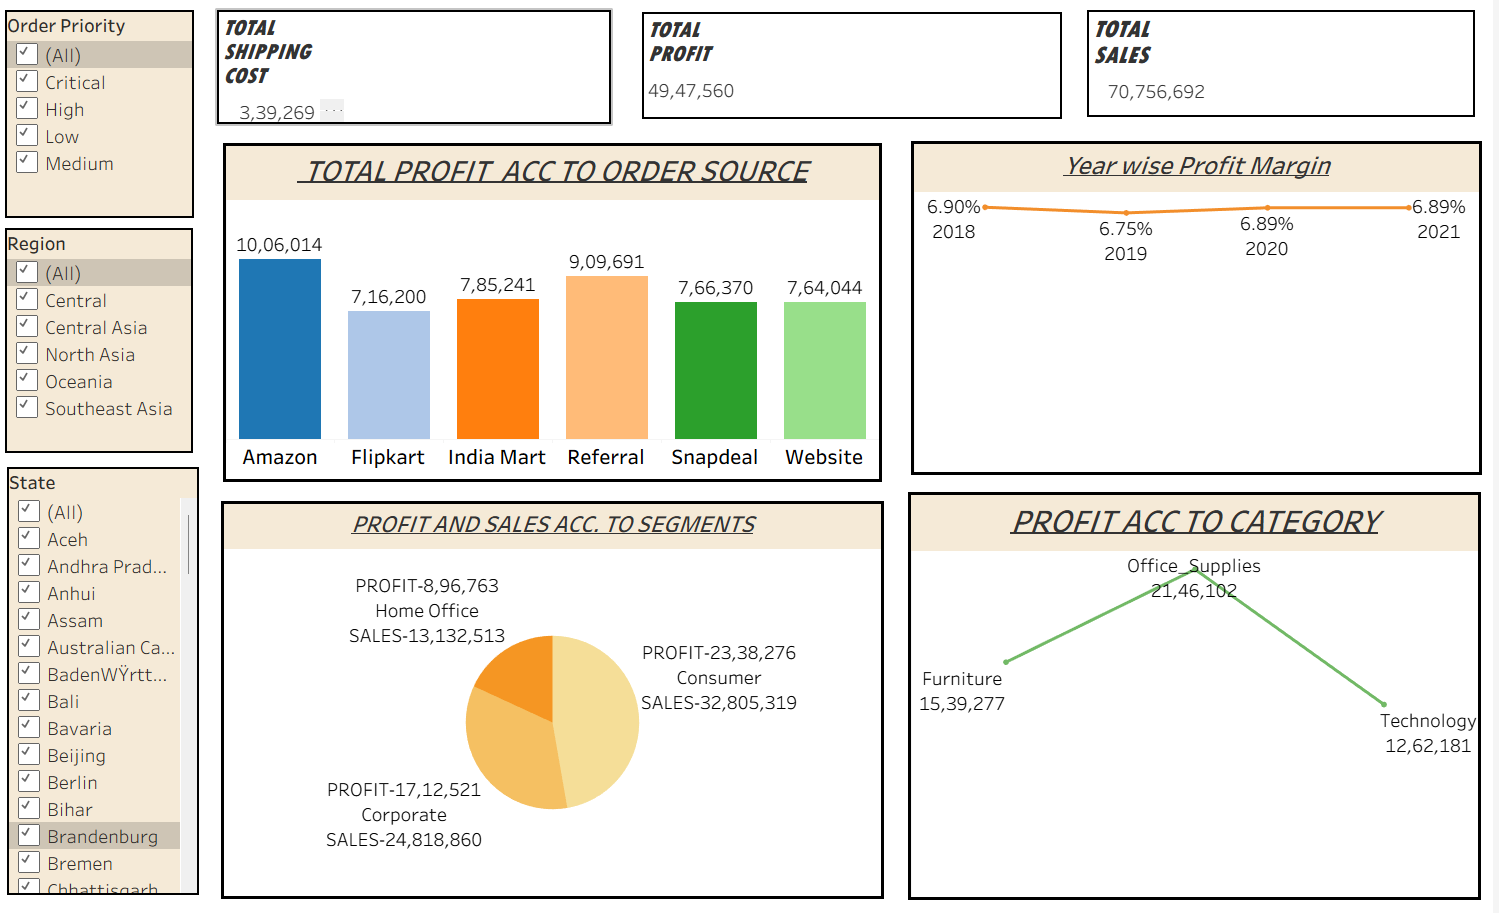

Layout of this report page (visuals, bound fields, positions):
{"tool":"tableau","page":{"name":"Dashboard 1","canvas":[1500,1000],"ordinal":0},"visuals":[{"type":"filter","title":"Sheet 4","param":"[federated.0v29taj0zjdy6m161e4fn0f0j5v9].[none:Order Priority:nk]","box":[12,13,189,208]},{"type":"worksheet","title":"Sheet 8","mark":"Automatic","box":[224,13,394,114]},{"type":"worksheet","title":"Sheet 7","mark":"Automatic","box":[1094,13,388,107]},{"type":"worksheet","title":"Sheet 6","mark":"Automatic","box":[649,15,420,107]},{"type":"worksheet","title":"Sheet 9","mark":"Automatic","rows":["Calculation_1416233853739010"],"cols":["Order Date"],"box":[918,144,571,334]},{"type":"worksheet","title":"Sheet 2","mark":"Automatic","rows":["Calculation_1416233491320832"],"cols":["Order_Source"],"box":[230,146,659,339]},{"type":"filter","title":"Sheet 4","param":"[federated.0v29taj0zjdy6m161e4fn0f0j5v9].[none:Region:nk]","box":[12,231,188,225]},{"type":"filter","title":"Sheet 4","param":"[federated.0v29taj0zjdy6m161e4fn0f0j5v9].[none:State:nk]","box":[14,470,192,428]},{"type":"worksheet","title":"Sheet 5","mark":"Line","rows":["Calculation_1416233491320832"],"cols":["Category"],"box":[915,495,573,408]},{"type":"worksheet","title":"Sheet 4","mark":"Pie","box":[228,504,663,398]}]}

Visuals, with their boxes in screenshot pixels (x1, y1, x2, y2):
"Sheet 4" filter: {"left": 15, "top": 12, "right": 192, "bottom": 206}
"Sheet 8" worksheet: {"left": 213, "top": 12, "right": 581, "bottom": 119}
"Sheet 7" worksheet: {"left": 1026, "top": 12, "right": 1388, "bottom": 112}
"Sheet 6" worksheet: {"left": 610, "top": 14, "right": 1002, "bottom": 114}
"Sheet 9" worksheet: {"left": 861, "top": 134, "right": 1395, "bottom": 446}
"Sheet 2" worksheet: {"left": 219, "top": 136, "right": 834, "bottom": 453}
"Sheet 4" filter: {"left": 15, "top": 216, "right": 191, "bottom": 426}
"Sheet 4" filter: {"left": 17, "top": 439, "right": 196, "bottom": 839}
"Sheet 5" worksheet (Line marks): {"left": 858, "top": 462, "right": 1394, "bottom": 843}
"Sheet 4" worksheet (Pie marks): {"left": 217, "top": 471, "right": 836, "bottom": 842}
